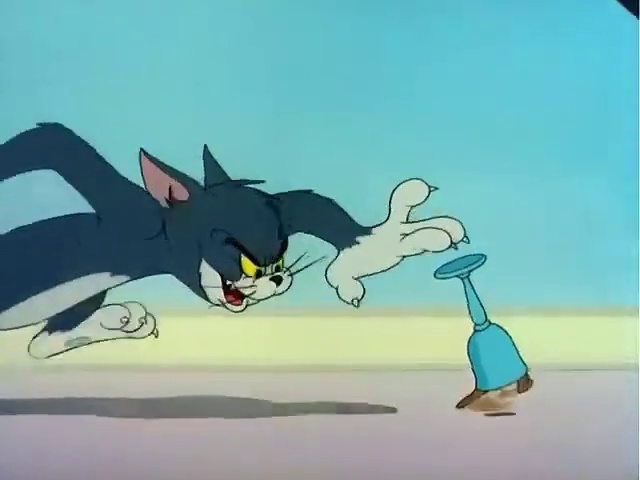tom: (4, 97, 465, 376)
